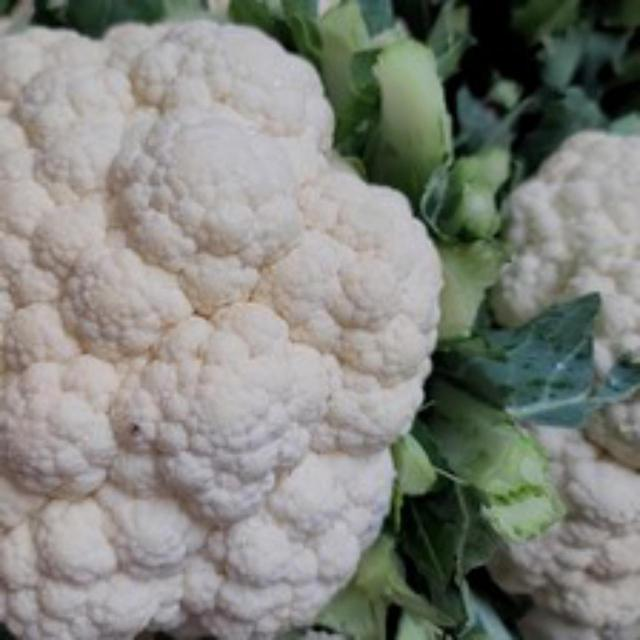cauliflower: (3, 11, 456, 640)
